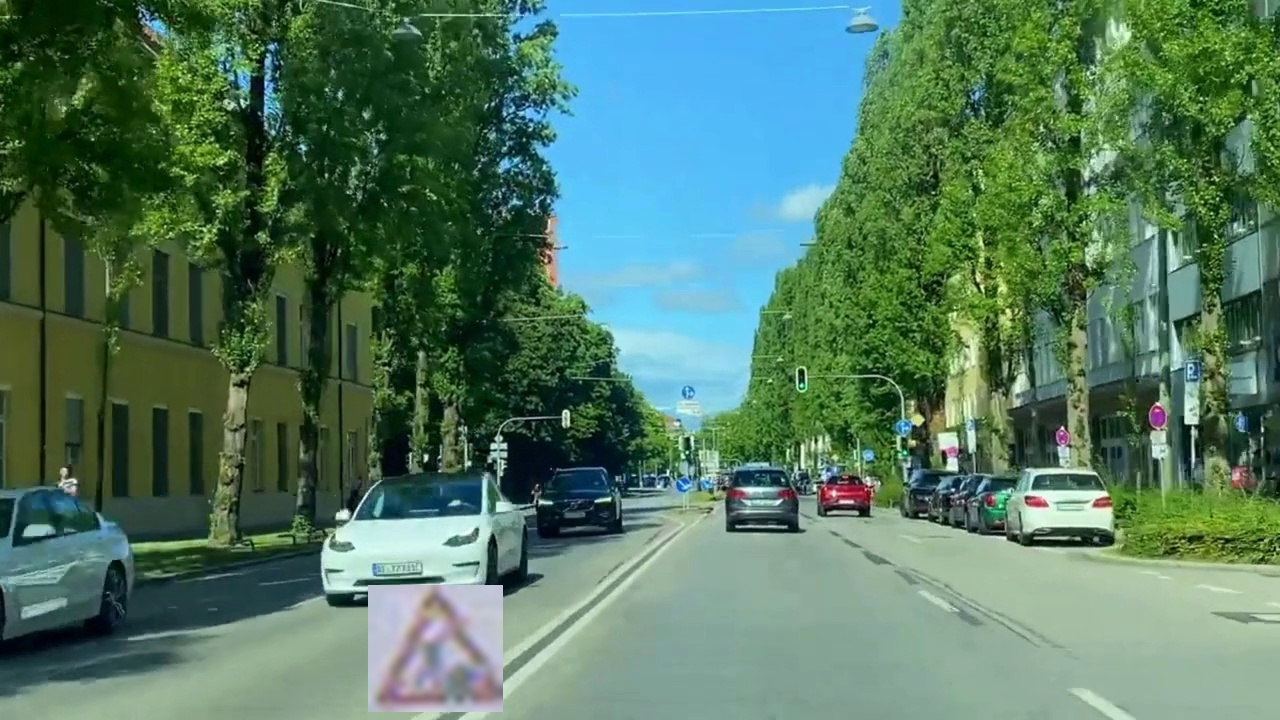Road work: (368, 585, 503, 712)
